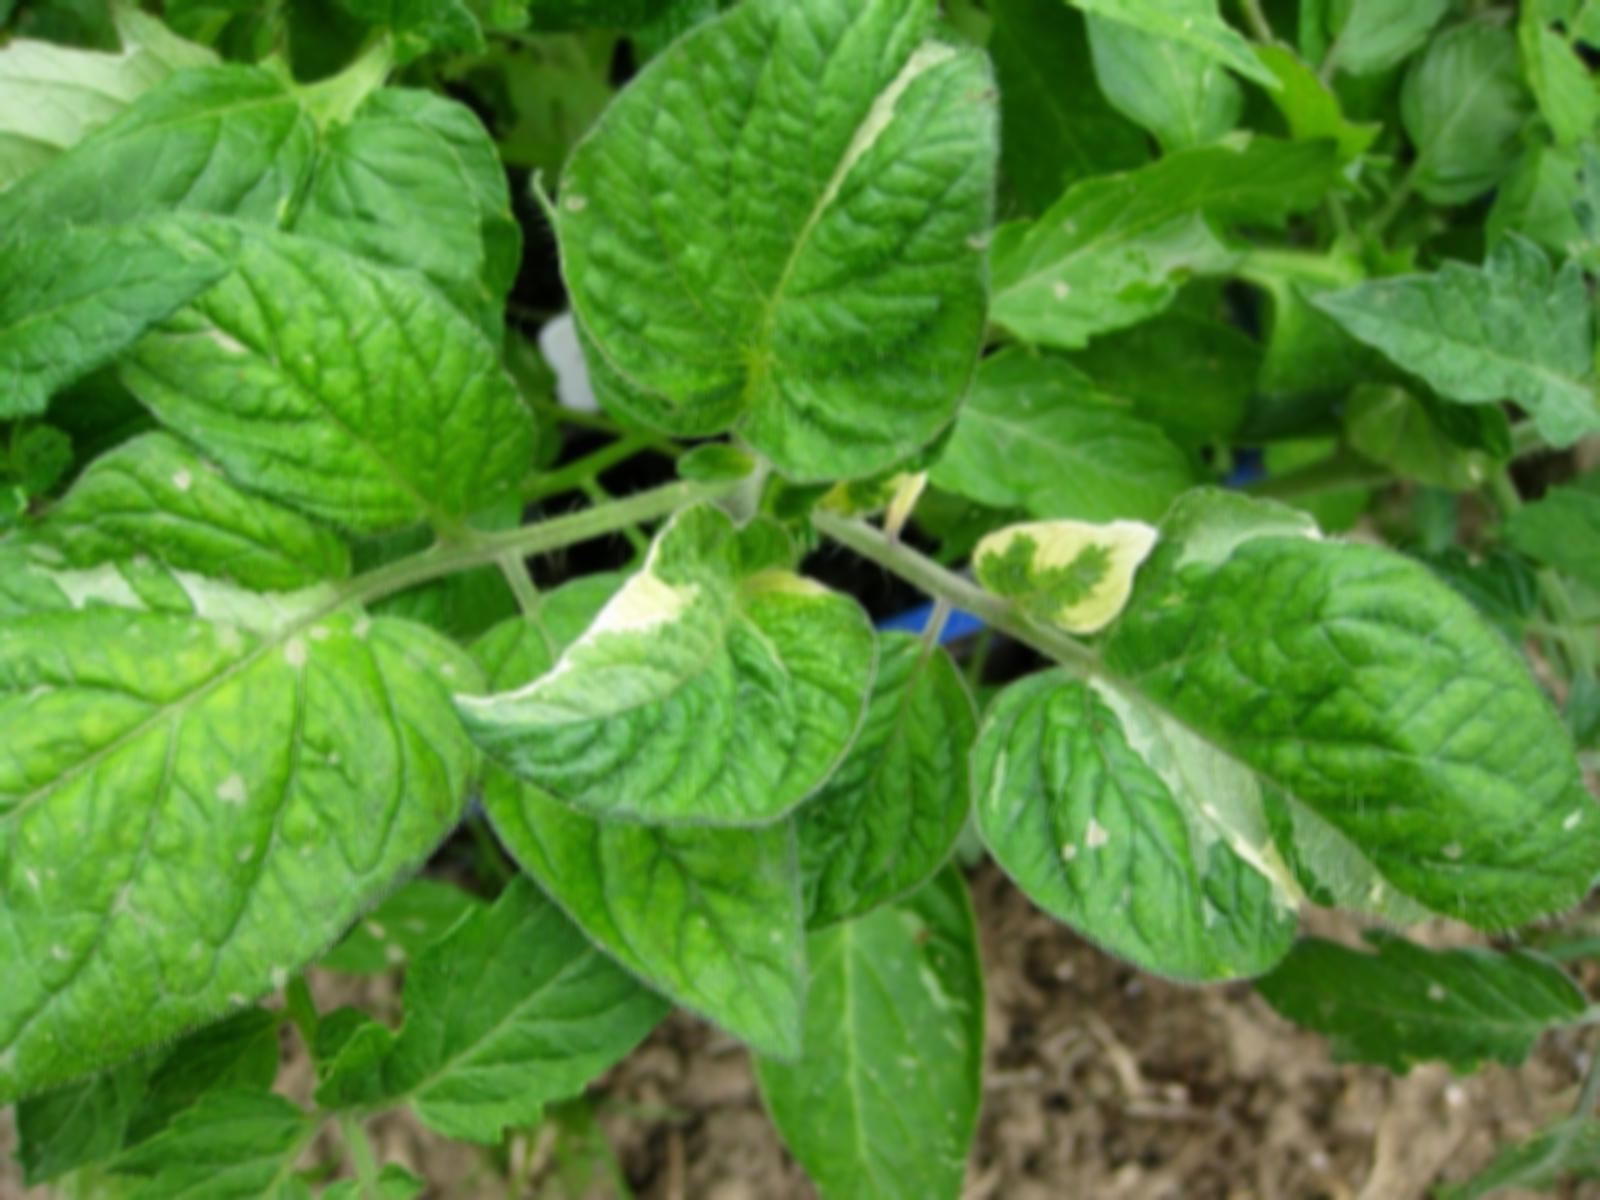Tomato leaf: (547, 5, 1008, 494), (123, 222, 528, 513), (1301, 232, 1599, 442)
